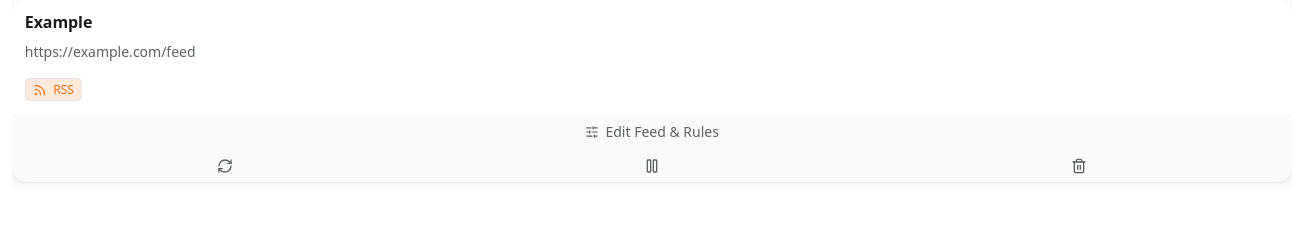
Test: FeedCard parse — rate limit (RAD-326) › shows a run-level error sent under `error`, not `Unknown error`
Click the button named "Run parsing" at (225, 166), box [12,150,439,182]
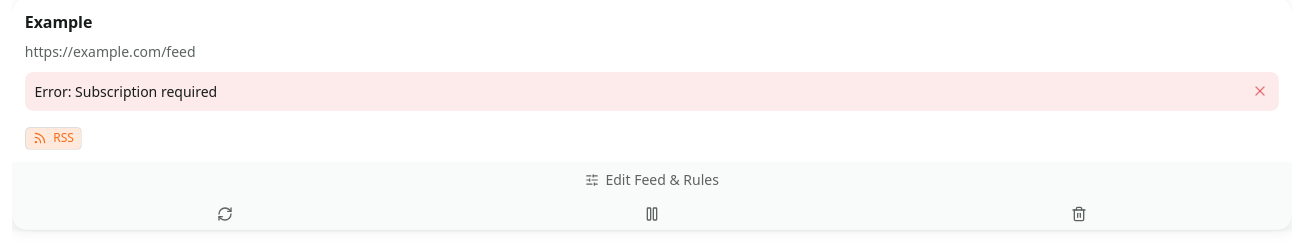
Expected: the message shows "Subscription required", [75,82,217,101]
